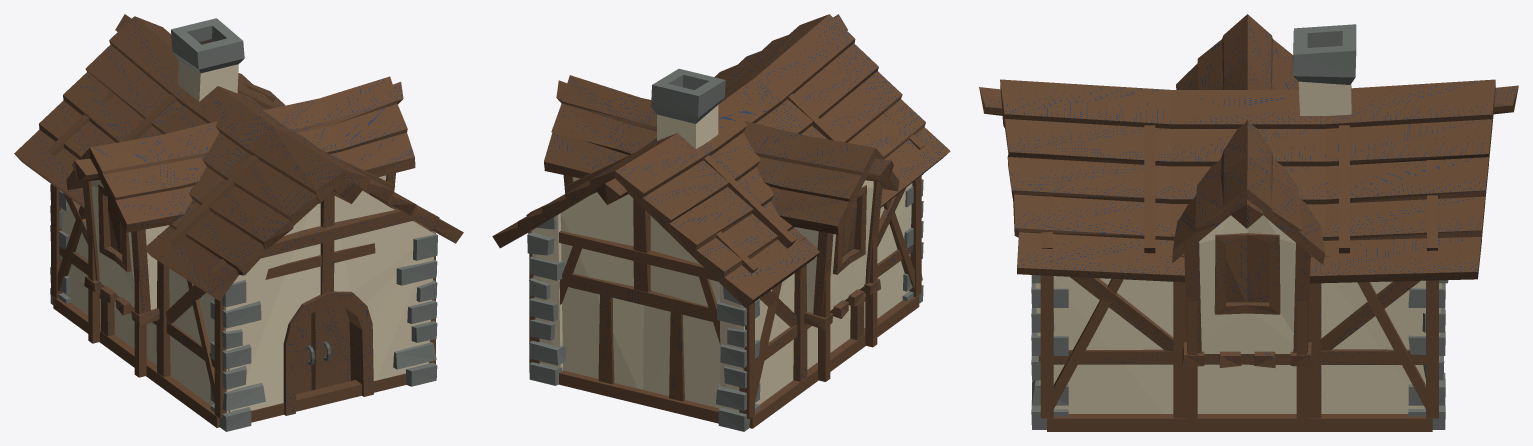
Rendered from Residence_Construction_BLU.glb.
The picture shows the model from 3 angles, left to right: view 1: azimuth 30°, elevation 25°; view 2: azimuth 150°, elevation 25°; view 3: azimuth 270°, elevation 25°; orthographic projection. The views are drawn at different scales.
Parts seen in each view (by area): view 1: Stage_04_Roofed, Stage_05_Complete, Stage_03_RoofFrame, Stage_02_FirstFloor, Stage_01_Foundation; view 2: Stage_04_Roofed, Stage_05_Complete, Stage_03_RoofFrame, Stage_02_FirstFloor, Stage_01_Foundation; view 3: Stage_04_Roofed, Stage_05_Complete, Stage_03_RoofFrame, Stage_02_FirstFloor, Stage_01_Foundation.
Part boxes in pixels (x1=…): Stage_04_Roofed: x1=14, y1=16, x2=463, y2=301; Stage_05_Complete: x1=50, y1=18, x2=437, y2=431; Stage_03_RoofFrame: x1=47, y1=14, x2=433, y2=415; Stage_02_FirstFloor: x1=51, y1=184, x2=435, y2=418; Stage_01_Foundation: x1=53, y1=297, x2=406, y2=427; Stage_04_Roofed: x1=492, y1=14, x2=950, y2=308; Stage_05_Complete: x1=527, y1=68, x2=923, y2=431; Stage_03_RoofFrame: x1=526, y1=14, x2=924, y2=401; Stage_02_FirstFloor: x1=529, y1=175, x2=921, y2=418; Stage_01_Foundation: x1=559, y1=295, x2=919, y2=428; Stage_04_Roofed: x1=1000, y1=14, x2=1495, y2=283; Stage_05_Complete: x1=1031, y1=24, x2=1448, y2=429; Stage_03_RoofFrame: x1=979, y1=85, x2=1518, y2=428; Stage_02_FirstFloor: x1=1040, y1=255, x2=1438, y2=418; Stage_01_Foundation: x1=1047, y1=414, x2=1432, y2=431.
Size of the model in its own units: 6.05 by 4.99 by 7.35.
Materials: 1 (1 with a texture image).
